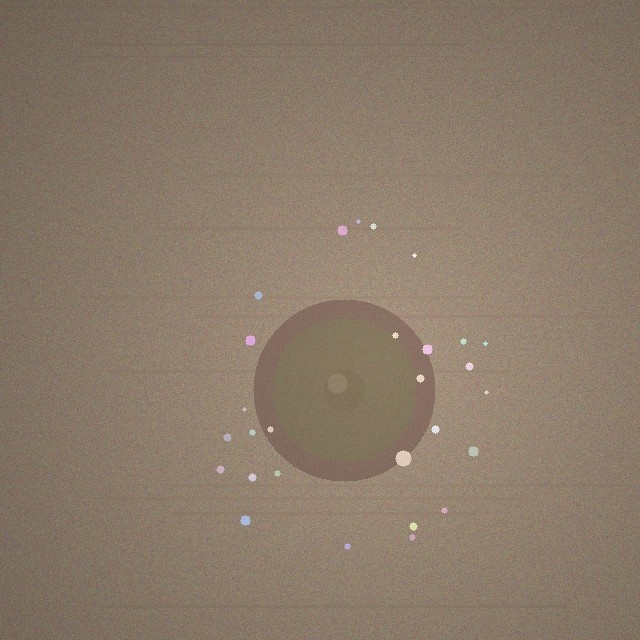overburn: (253, 299, 435, 481)
